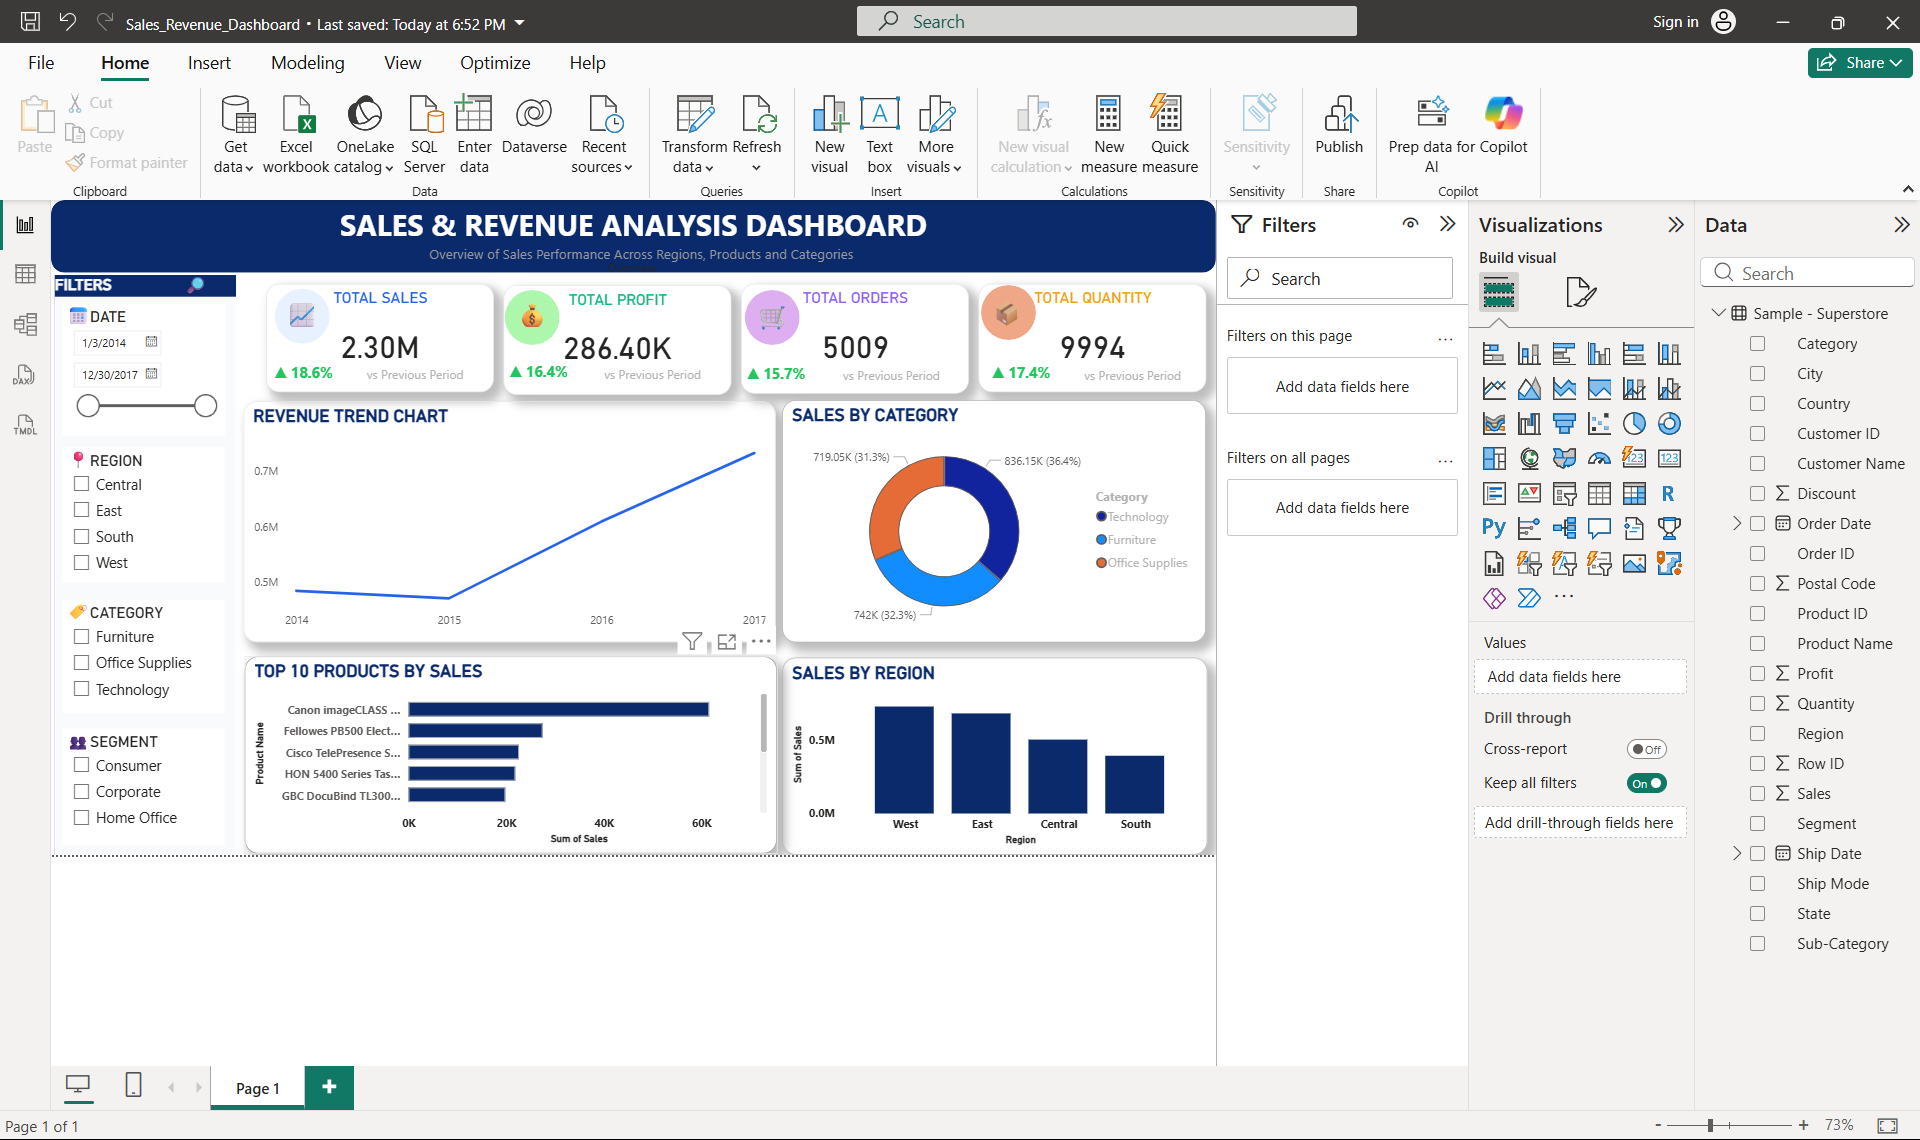

The dashboard page shown, as its layout file describes it:
{"tool":"powerbi","page":{"name":"Page 1","canvas":[1280,720],"ordinal":0},"visuals":[{"type":"card","title":"TOTAL SALES","fields":{"Values":["Sum(Sample - Superstore.Sales)"]},"box":[236.3,92,250,119.5],"z":0},{"type":"shape","box":[0,0,1280.3,80],"z":1000},{"type":"textbox","box":[0,0,1280.3,112.5],"z":2000},{"type":"textbox","box":[387,43.9,522.8,39.8],"z":3000},{"type":"shape","box":[245.9,97.5,60.4,60.4],"z":4000},{"type":"textbox","box":[252.8,103,74.2,56.3],"z":5000},{"type":"textbox","box":[240.4,173.1,74.2,35.7],"z":6000},{"type":"textbox","box":[342,177.2,147,31.6],"z":7000},{"type":"card","title":"TOTAL PROFIT","fields":{"Values":["Sum(Sample - Superstore.Profit)"]},"box":[497.3,93.4,250,120.9],"z":8000},{"type":"card","title":"TOTAL ORDERS","fields":{"Values":["Count(Sample - Superstore.Order ID)"]},"box":[758.3,92,250,120.9],"z":9000},{"type":"card","title":"TOTAL QUANTITY","fields":{"Values":["CountNonNull(Sample - Superstore.Quantity)"]},"box":[1019.3,92,250,119.5],"z":10000},{"type":"shape","box":[498.6,98.9,60.4,60.4],"z":11000},{"type":"shape","box":[762.4,98.9,60.4,60.4],"z":12000},{"type":"shape","box":[1022,93.4,60.4,60.4],"z":13000},{"type":"textbox","box":[498.6,171.7,74.2,35.7],"z":13001},{"type":"textbox","box":[603,177.2,147,31.6],"z":13002},{"type":"textbox","box":[1130.5,178.6,147,31.6],"z":13003},{"type":"textbox","box":[865.4,178.6,147,31.6],"z":13004},{"type":"textbox","box":[1028.9,173.1,74.2,35.7],"z":13005},{"type":"textbox","box":[759.7,174.5,74.2,35.7],"z":13006},{"type":"textbox","box":[505.5,103,83.8,45.3],"z":13007},{"type":"textbox","box":[769.3,104.4,83.8,45.3],"z":13008},{"type":"textbox","box":[1027.5,100.3,83.8,45.3],"z":13009},{"type":"shape","title":"FILTERS","box":[4.1,82.4,199.2,637.4],"z":13010},{"type":"slicer","title":"📅DATE    ","fields":{"Values":["Sample - Superstore.Order Date"]},"box":[12.4,114,178.6,144.2],"z":13011},{"type":"slicer","title":"📍REGION","fields":{"Values":["Sample - Superstore.Region"]},"box":[12.4,272,178.6,148.4],"z":13012},{"type":"slicer","title":"🏷️CATEGORY","fields":{"Values":["Sample - Superstore.Category"]},"box":[12.4,439.6,178.6,123.6],"z":13013},{"type":"slicer","title":"👥SEGMENT","fields":{"Values":["Sample - Superstore.Segment"]},"box":[12.4,581.1,178.6,127.8],"z":13014},{"type":"textbox","box":[141.5,75.6,61.8,44],"z":13015},{"type":"lineChart","title":"REVENUE TREND CHART","fields":{"Category":["Sample - Superstore.Order Date.Variation.Date Hierarchy.Year","Sample - Superstore.Order Date.Variation.Date Hierarchy.Quarter","Sample - Superstore.Order Date.Variation.Date Hierarchy.Month","Sample - Superstore.Order Date.Variation.Date Hierarchy.Day"],"Y":["Sum(Sample - Superstore.Sales)"]},"box":[211.5,221.2,585.2,265.1],"z":13016},{"type":"donutChart","title":"SALES BY CATEGORY","fields":{"Category":["Sample - Superstore.Category"],"Y":["Sum(Sample - Superstore.Sales)"]},"box":[803.6,219.8,465.7,266.5],"z":13017},{"type":"clusteredBarChart","title":"TOP 10 PRODUCTS BY SALES","fields":{"Category":["Sample - Superstore.Product Name"],"Y":["Sum(Sample - Superstore.Sales)"]},"box":[212.9,501.4,585.2,217],"z":13018},{"type":"clusteredColumnChart","title":"SALES BY REGION","fields":{"Category":["Sample - Superstore.Region"],"Y":["Sum(Sample - Superstore.Sales)"]},"box":[803.6,502.8,467.1,217],"z":13019}]}

Visuals, with their boxes in screenshot pixels (x1, y1, x2, y2):
"TOTAL SALES" card: rect(402, 166, 759, 337)
shape: rect(65, 35, 1892, 149)
textbox: rect(65, 35, 1892, 196)
textbox: rect(617, 98, 1363, 154)
shape: rect(416, 174, 502, 260)
textbox: rect(426, 182, 532, 262)
textbox: rect(408, 282, 514, 333)
textbox: rect(553, 288, 763, 333)
"TOTAL PROFIT" card: rect(775, 168, 1131, 341)
"TOTAL ORDERS" card: rect(1147, 166, 1504, 339)
"TOTAL QUANTITY" card: rect(1519, 166, 1876, 337)
shape: rect(776, 176, 863, 262)
shape: rect(1153, 176, 1239, 262)
shape: rect(1523, 168, 1609, 254)
textbox: rect(776, 280, 882, 331)
textbox: rect(925, 288, 1135, 333)
textbox: rect(1678, 290, 1888, 335)
textbox: rect(1300, 290, 1510, 335)
textbox: rect(1533, 282, 1639, 333)
textbox: rect(1149, 284, 1255, 335)
textbox: rect(786, 182, 906, 247)
textbox: rect(1163, 184, 1282, 249)
textbox: rect(1531, 178, 1651, 243)
"FILTERS" shape: rect(71, 153, 355, 1062)
"📅DATE    " slicer: rect(83, 198, 338, 403)
"📍REGION" slicer: rect(83, 423, 338, 635)
"🏷️CATEGORY" slicer: rect(83, 662, 338, 839)
"👥SEGMENT" slicer: rect(83, 864, 338, 1046)
textbox: rect(267, 143, 355, 206)
"REVENUE TREND CHART" lineChart: rect(367, 351, 1202, 729)
"SALES BY CATEGORY" donutChart: rect(1212, 349, 1876, 729)
"TOP 10 PRODUCTS BY SALES" clusteredBarChart: rect(369, 750, 1204, 1060)
"SALES BY REGION" clusteredColumnChart: rect(1212, 752, 1878, 1062)
